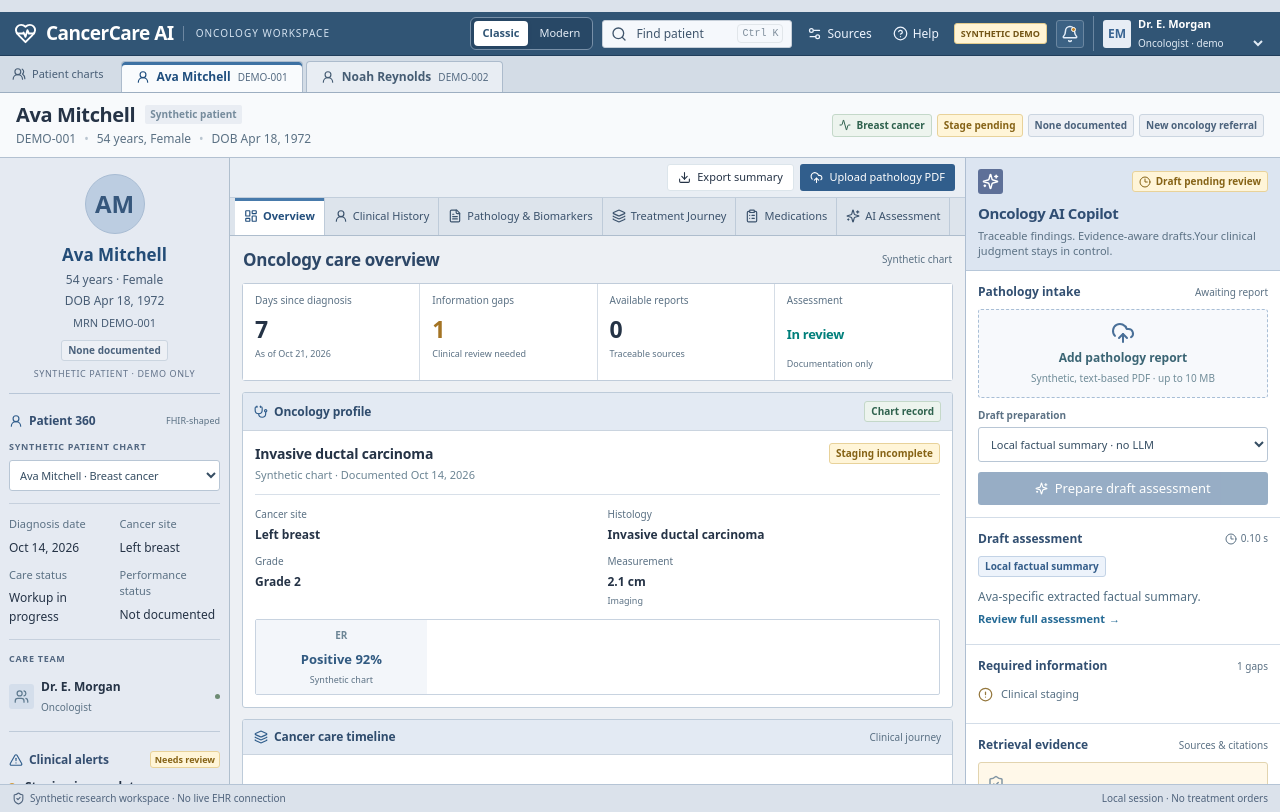
Test: patient workspace isolation and review access › refreshes every patient-specific panel and clears the prior assessment on patient switch
The width and height of the screenshot is (1280, 812).
Expected: the heading "Ava Mitchell" is shown, [16, 102, 135, 126]
Expected: the text "Ava-specific extracted factual summary." is shown, [978, 588, 1201, 605]
Select "Noah Reynolds · Lung cancer" in the dropdown labelled "Synthetic patient chart" at (114, 476), box [9, 460, 220, 491]
(page scrolled)
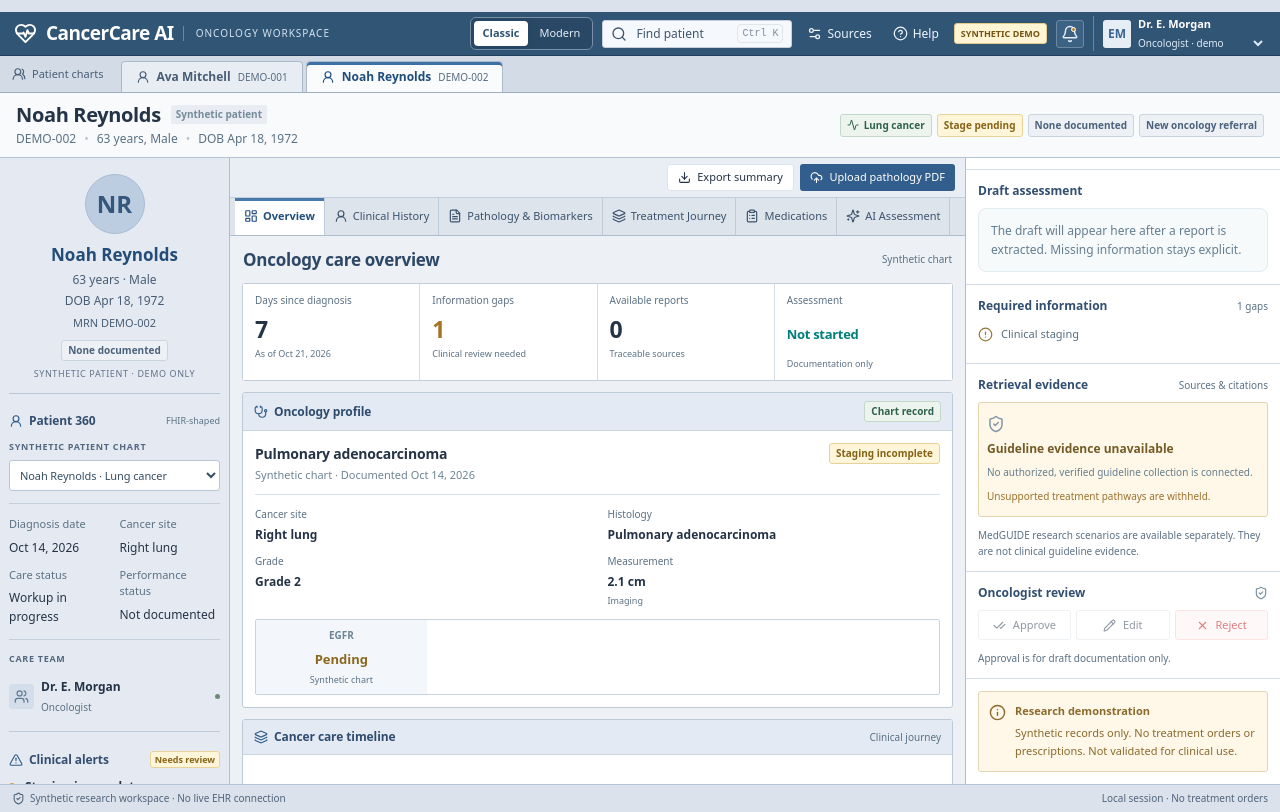
Expected: the heading "Noah Reynolds" is shown, [16, 102, 161, 126]
Expected: the text "Ava-specific extracted factual summary." is gone
Expected: the text "EGFR" is shown, [329, 628, 354, 642]
